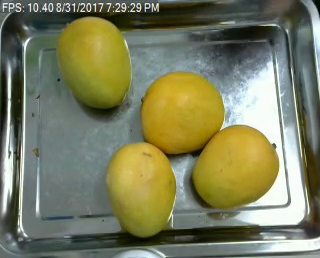Mango: (190, 124, 281, 209), (138, 71, 226, 154), (55, 17, 131, 109), (108, 140, 176, 238)
